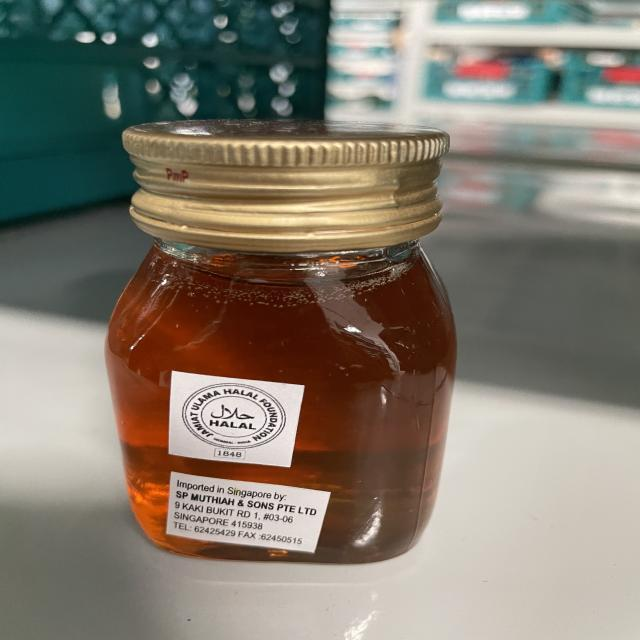object_name: (117, 119, 453, 562)
